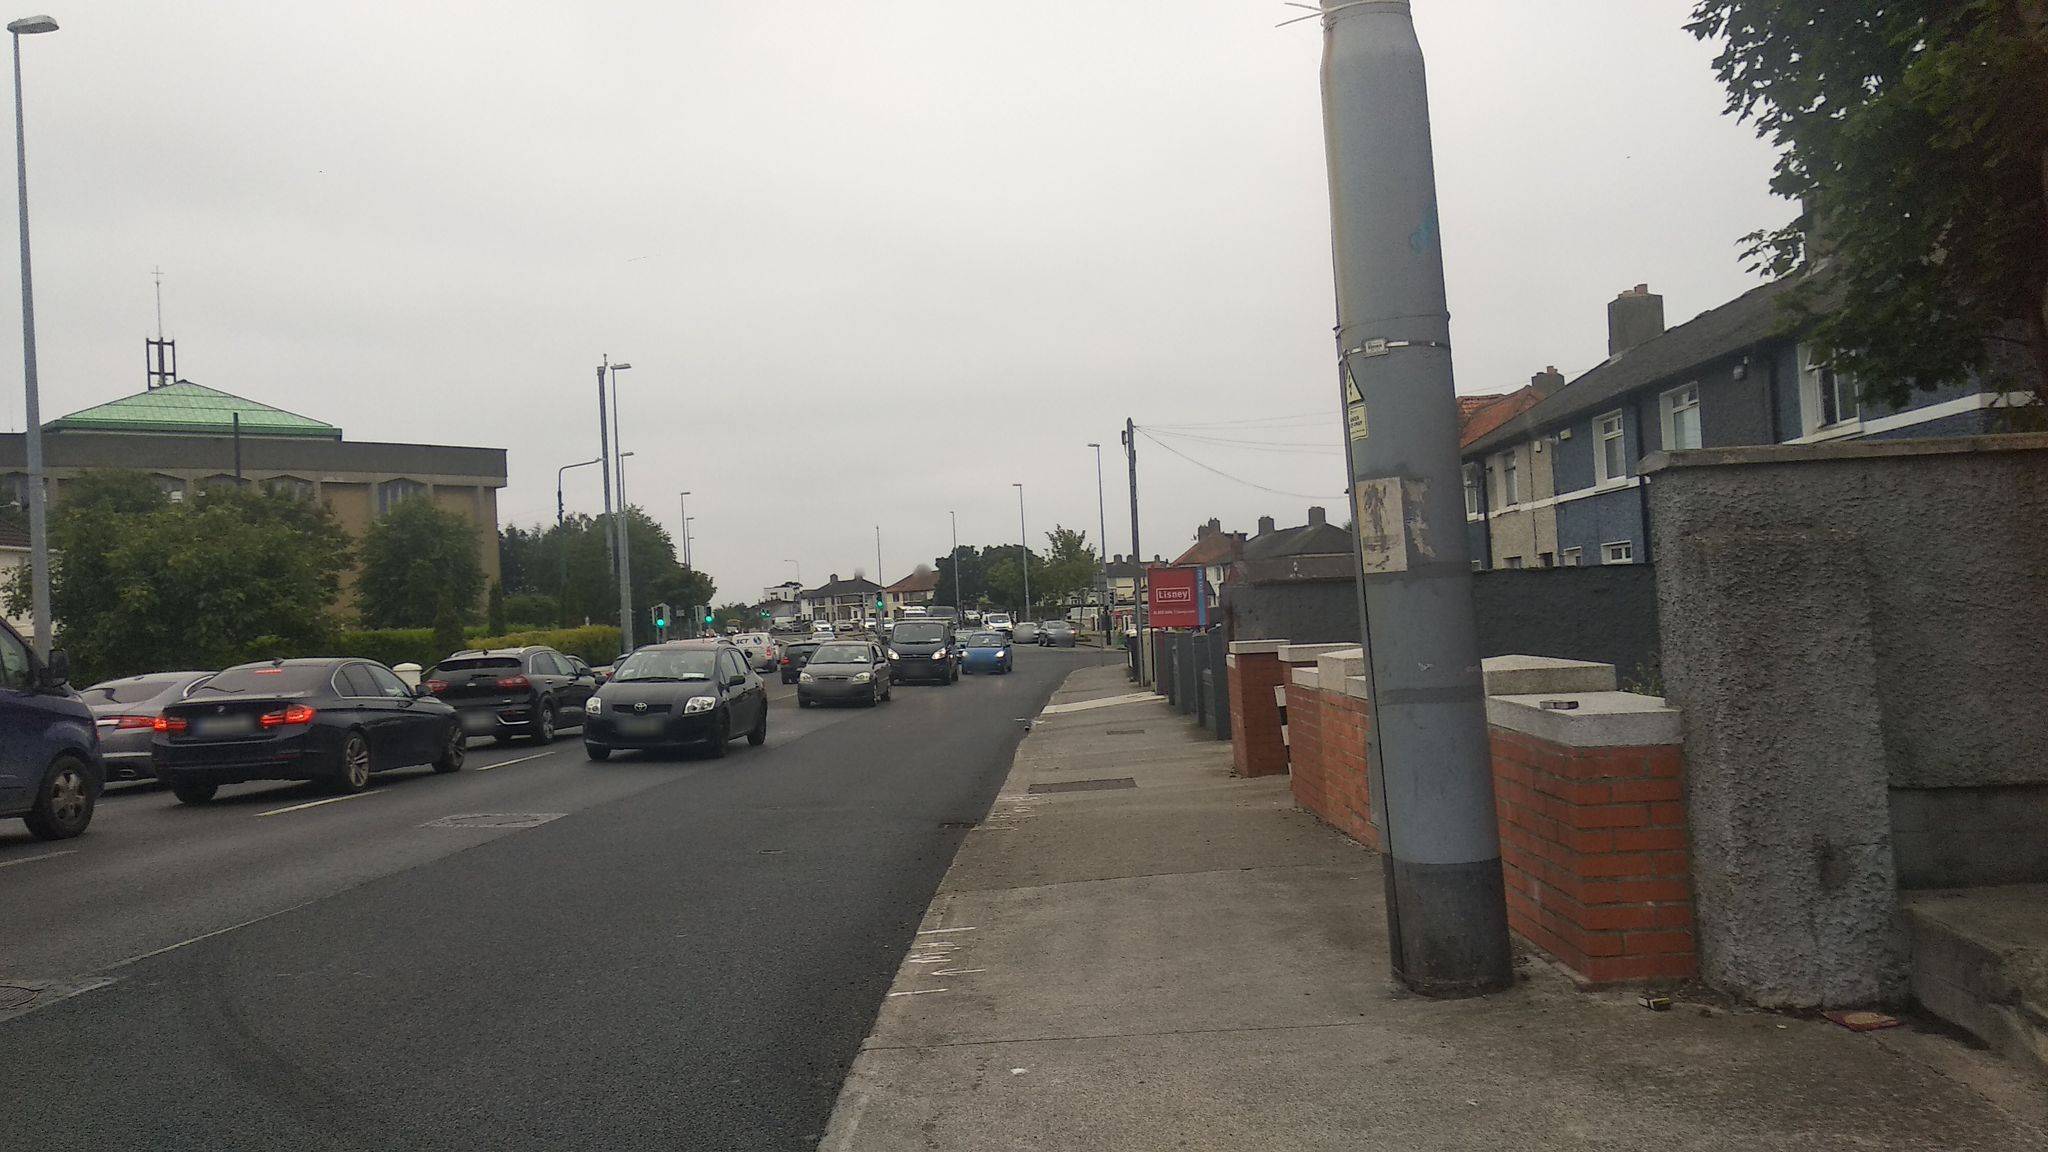property sign: (1139, 549, 1228, 639)
